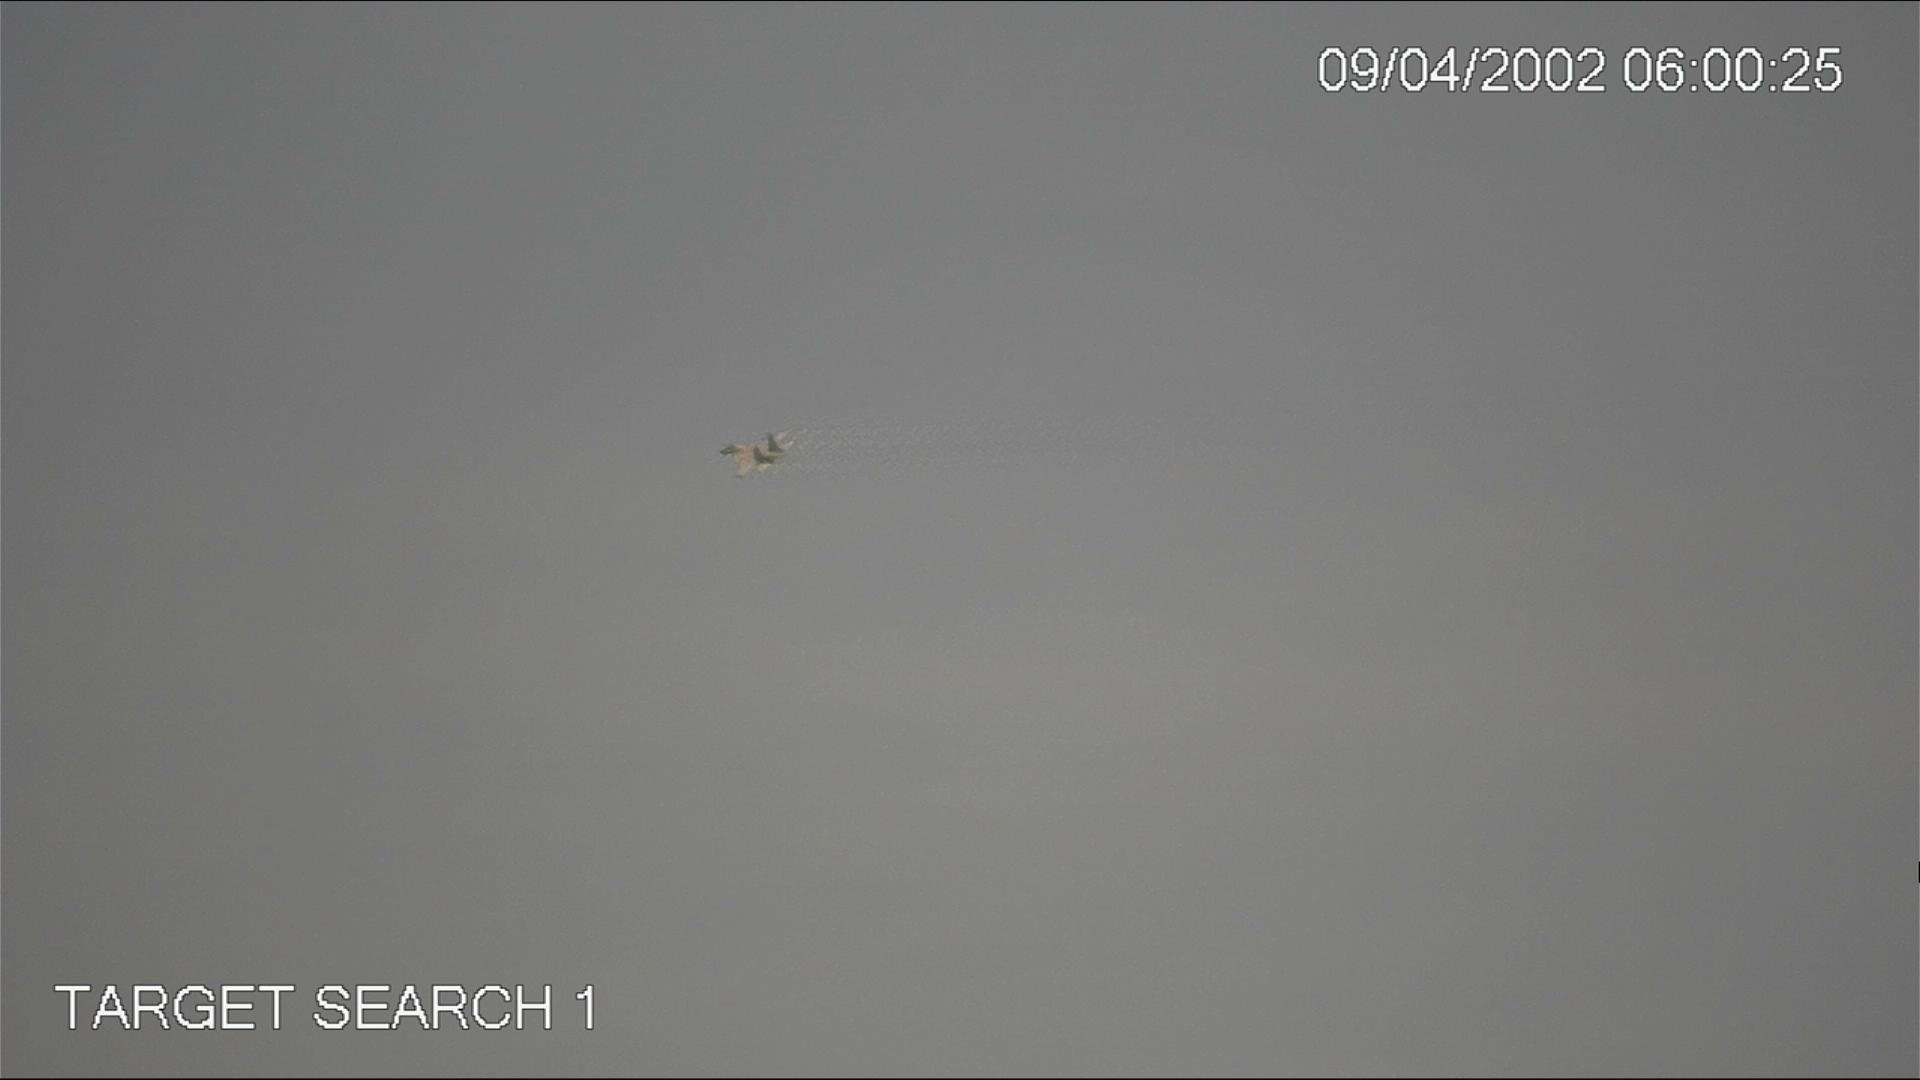SU_30: (719, 433, 795, 477)
